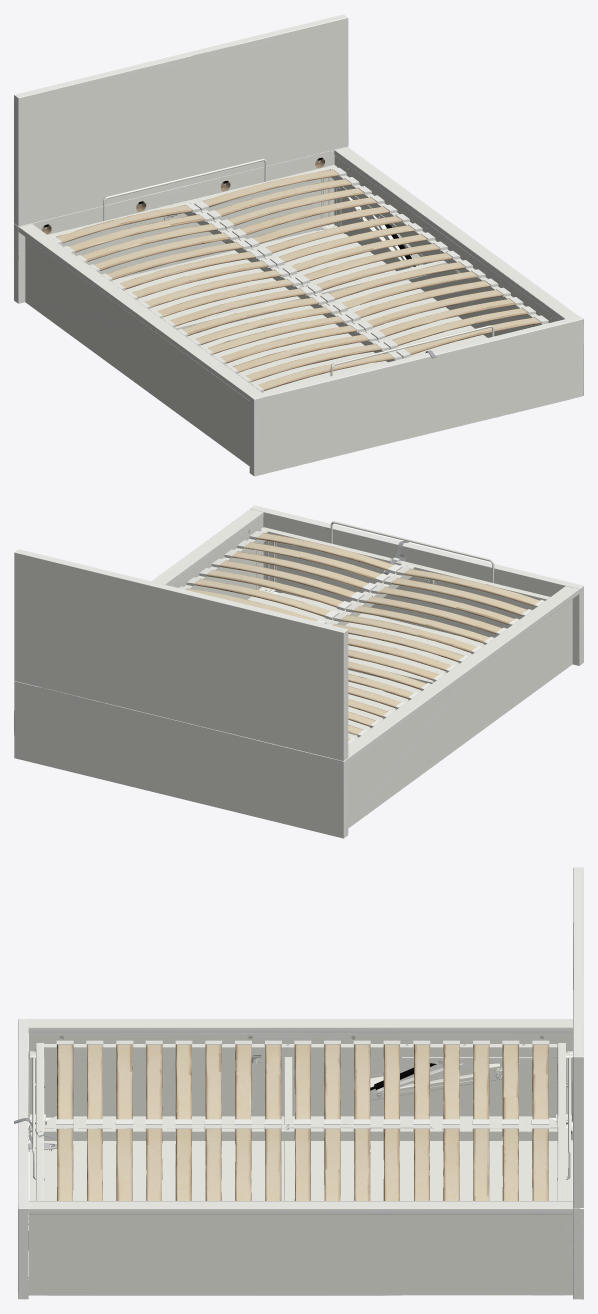
File: MALM_70404818.glb
The picture shows the model from 3 angles, top to bottom: view 1: azimuth 30°, elevation 25°; view 2: azimuth 150°, elevation 25°; view 3: azimuth 270°, elevation 25°; orthographic projection. The views are drawn at different scales.
Parts seen in each view (by area): view 1: model; view 2: model; view 3: model.
Boxes of the visible parts, box(x1,y1,x2,y2) form: model: box(14, 14, 583, 476); model: box(14, 505, 583, 838); model: box(14, 867, 583, 1299).
Bounding box in the file's own units: 1.68 × 1 × 2.13.
Materials: 1 (1 with a texture image).
